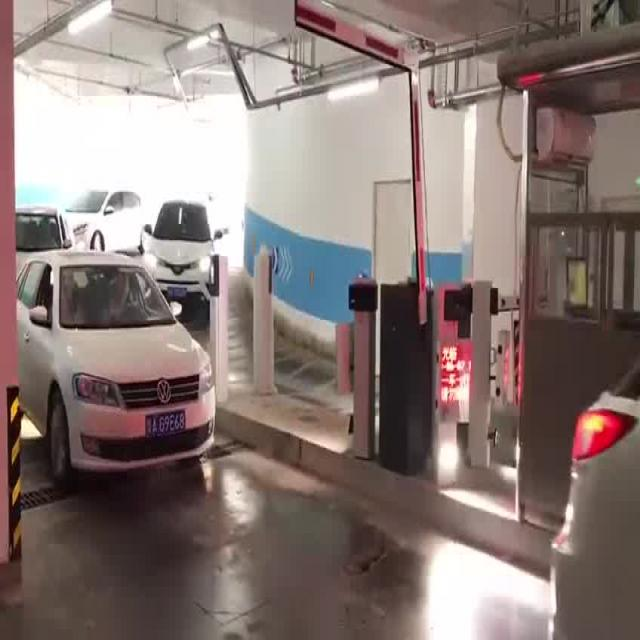CarIn: (12, 257, 221, 463), (138, 194, 234, 294)
GateClosed: (440, 260, 527, 355)
GateOpened: (279, 1, 436, 342)
